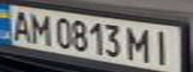0: (51, 15, 72, 49)
1: (84, 19, 106, 56)
3: (103, 21, 127, 59)
8: (69, 17, 90, 53)
A: (6, 7, 36, 42)
I: (148, 27, 178, 65)
M: (127, 25, 154, 63), (27, 11, 54, 46)
